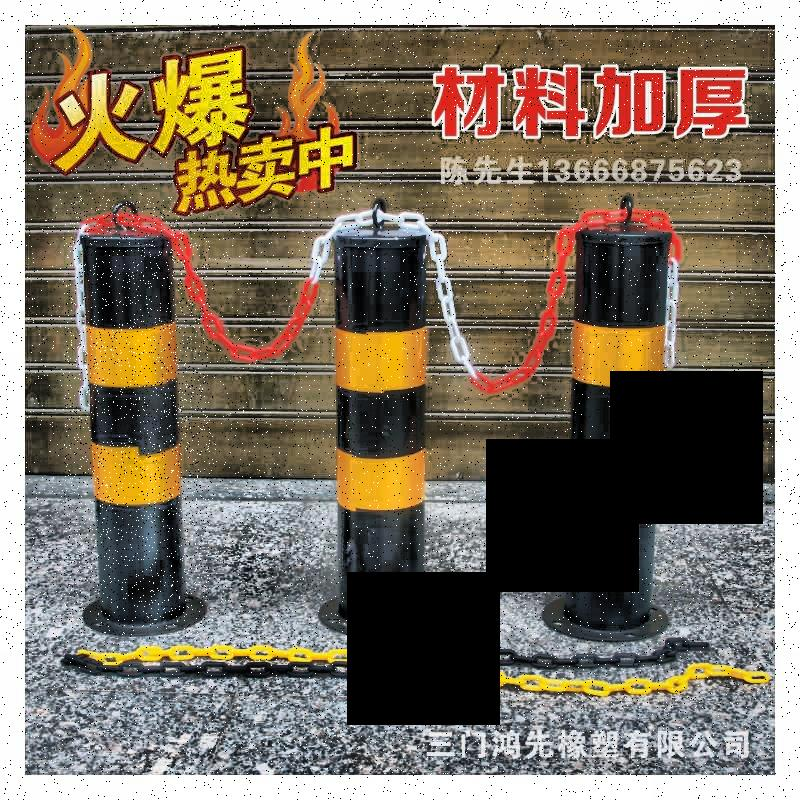bench: (64, 197, 211, 628), (325, 199, 450, 640), (559, 193, 681, 636)
